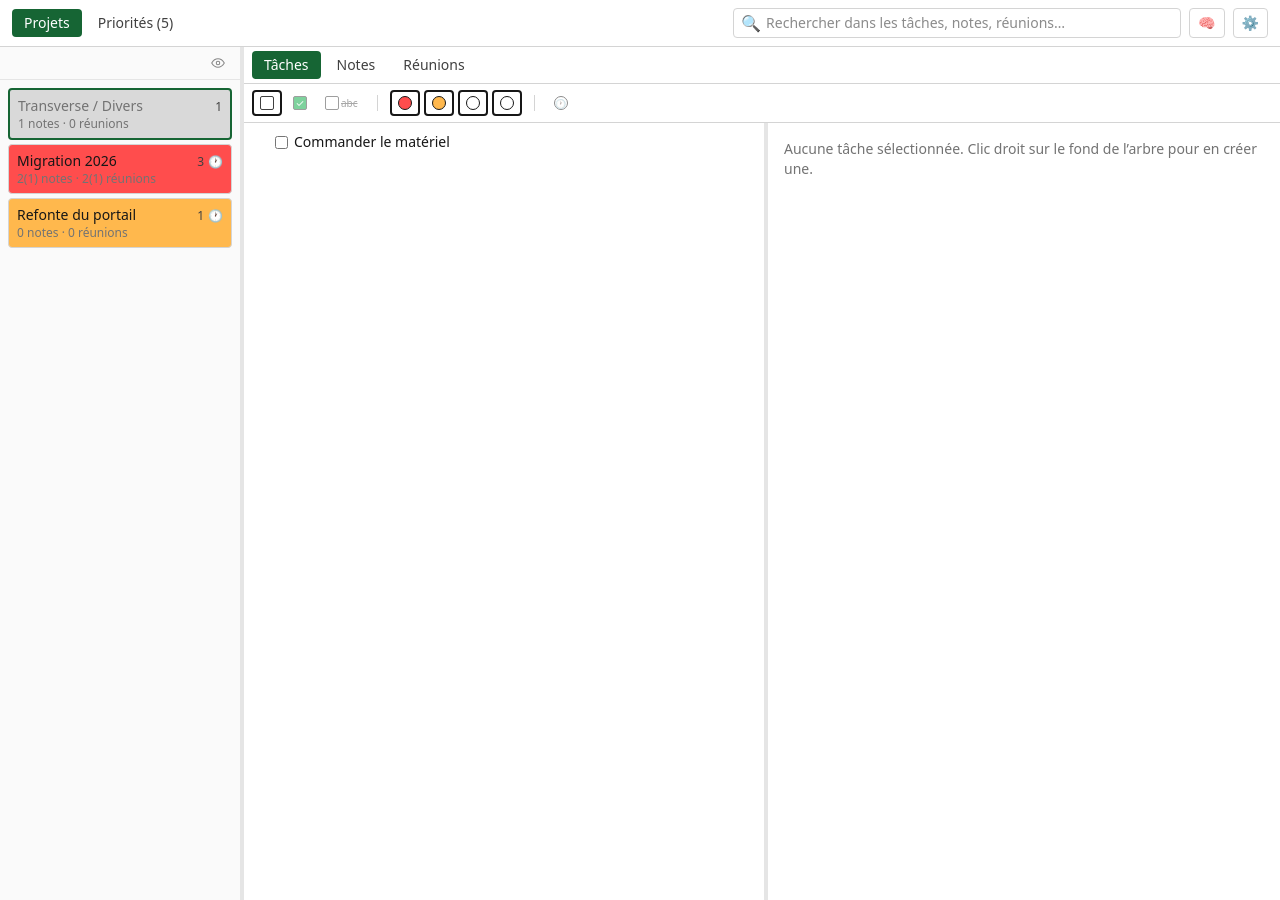
Création au double-clic sur le fond (§2.1, §2.2, §2.7) › sur le fond de la liste des projets
The width and height of the screenshot is (1280, 900).
Double-click the navigation bar named "Projets" at (120, 490), box [0,80,240,899]
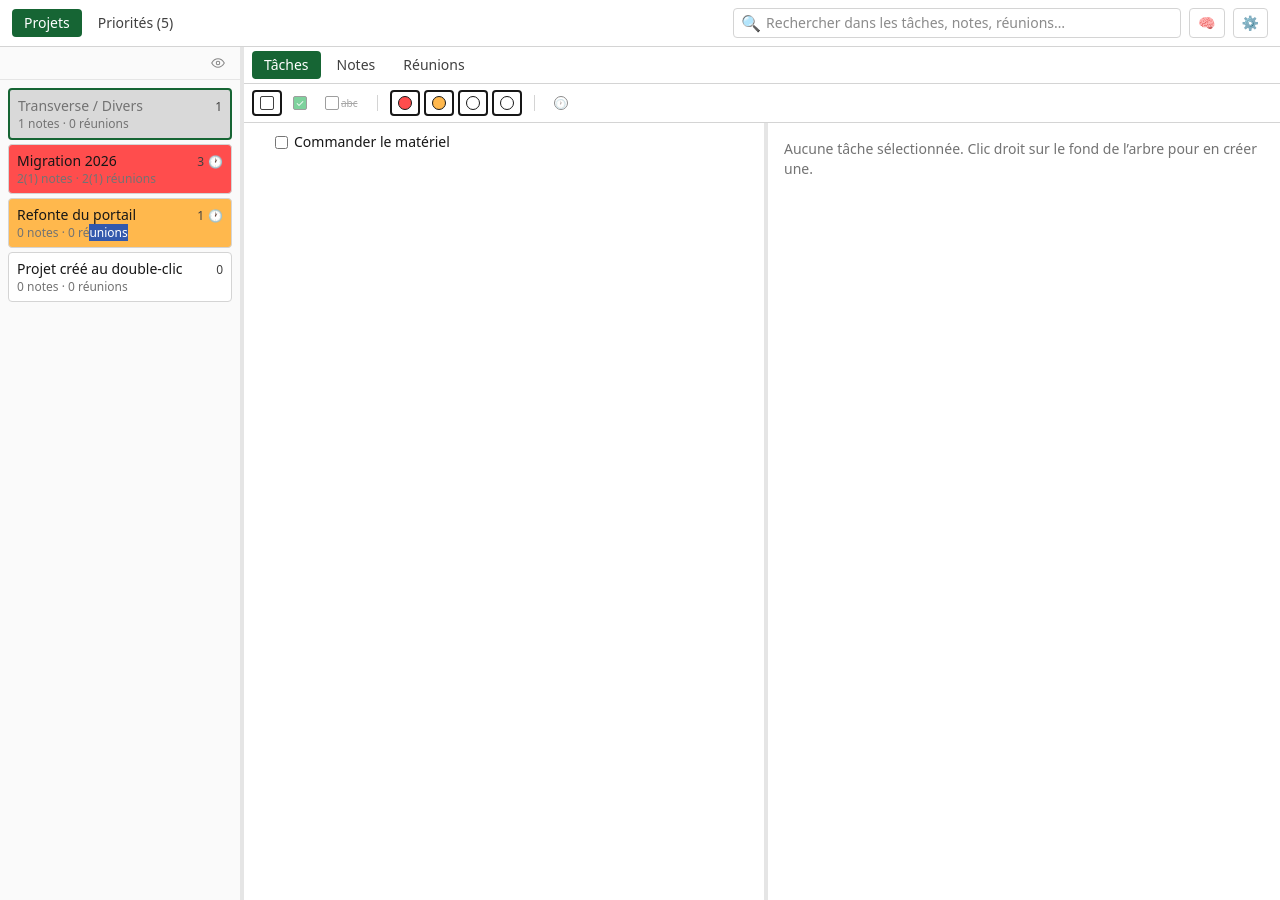
Expected: the button "Projet créé au double-clic 0 0 notes · 0 réunions" is shown, [8,252,232,302]
